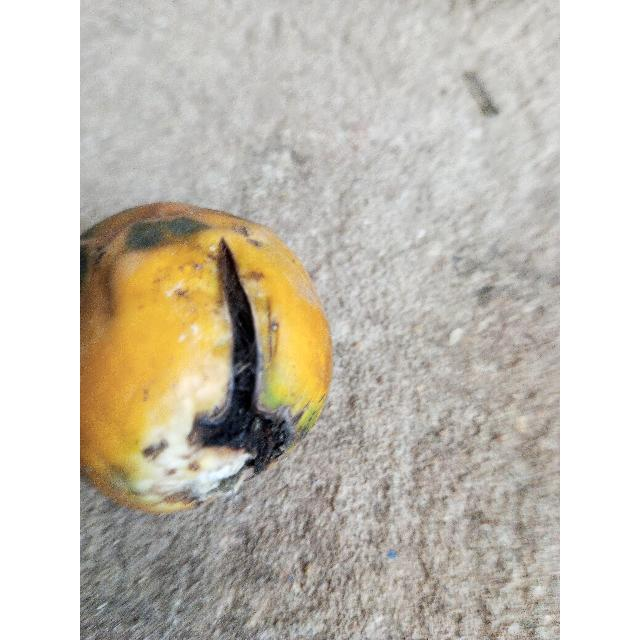damaged: (80, 202, 333, 518)
